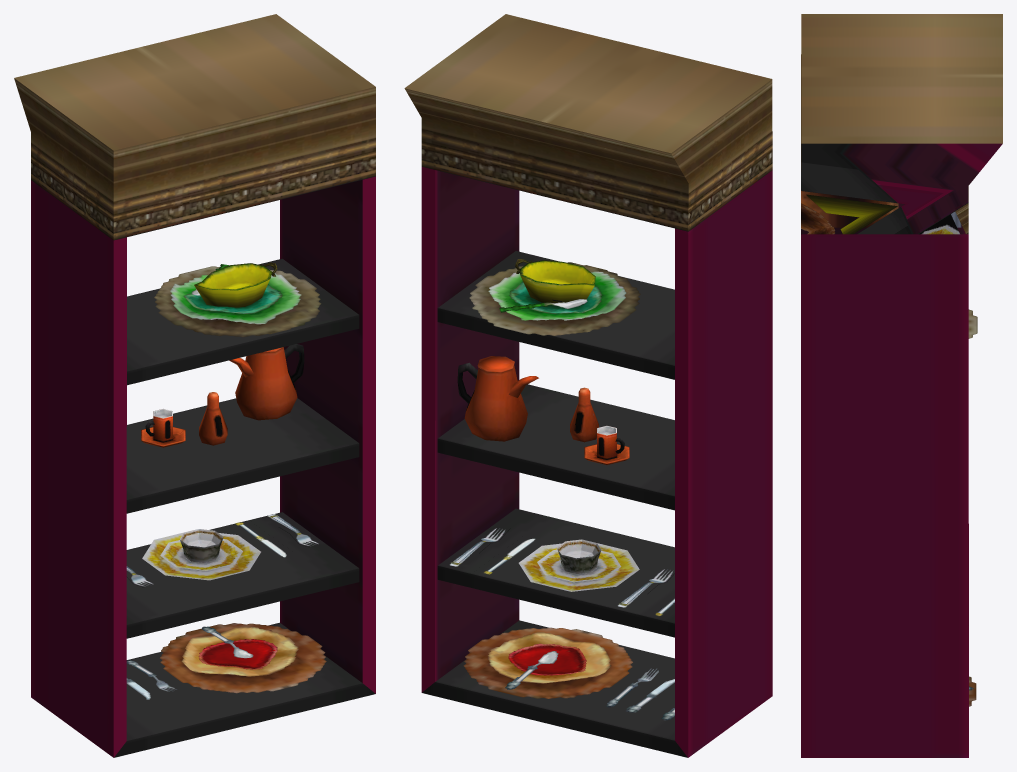
Rendered from furni_0200322_01.FBX.
3 renders of one model, left to right at view 1: azimuth 30°, elevation 25°; view 2: azimuth 150°, elevation 25°; view 3: azimuth 270°, elevation 25°, orthographic.
Visible parts, largest first — view 1: furni_0200322_01; view 2: furni_0200322_01; view 3: furni_0200322_01.
Part boxes in pixels (x1,y1,x2,y2): furni_0200322_01: (14, 14, 375, 757); furni_0200322_01: (404, 14, 772, 757); furni_0200322_01: (801, 14, 1002, 757).
Bounding box in the file's own units: 81.43 × 180 × 53.62.
